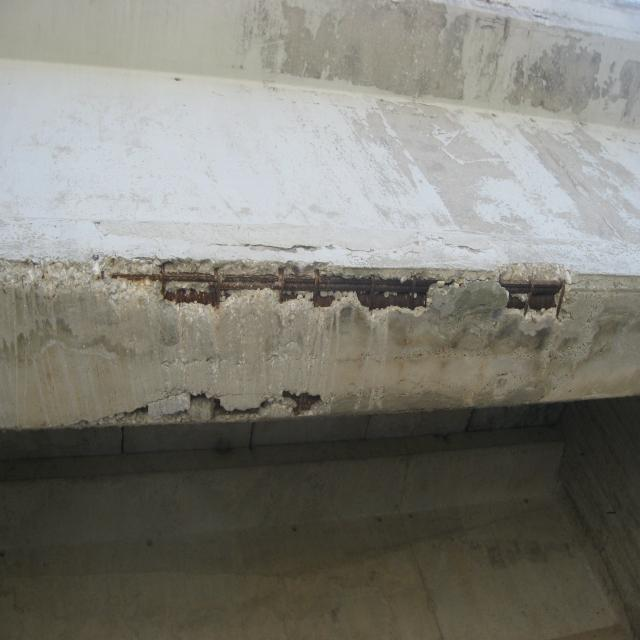corrosion: (83, 251, 576, 339), (207, 387, 325, 422)
